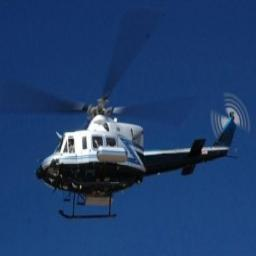helicopter: (2, 21, 251, 218)
